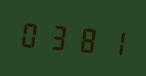eight: (72, 20, 98, 58)
one: (99, 22, 125, 60)
three: (45, 17, 71, 55)
zero: (18, 15, 44, 53)
